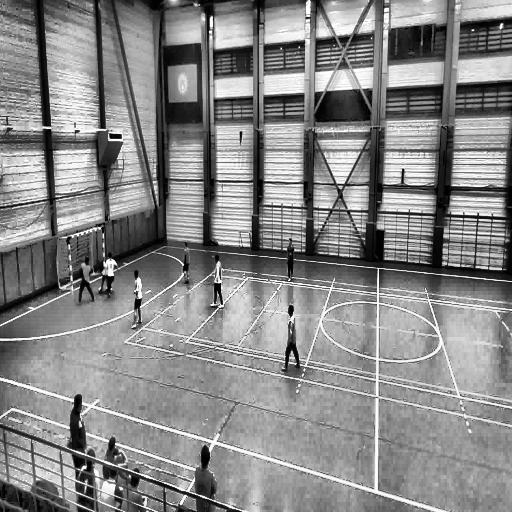player: (67, 396, 86, 481), (281, 304, 301, 372), (77, 258, 96, 304), (102, 253, 118, 296), (212, 255, 224, 308), (133, 269, 143, 326), (99, 266, 112, 298), (286, 237, 295, 281), (182, 242, 190, 284)
